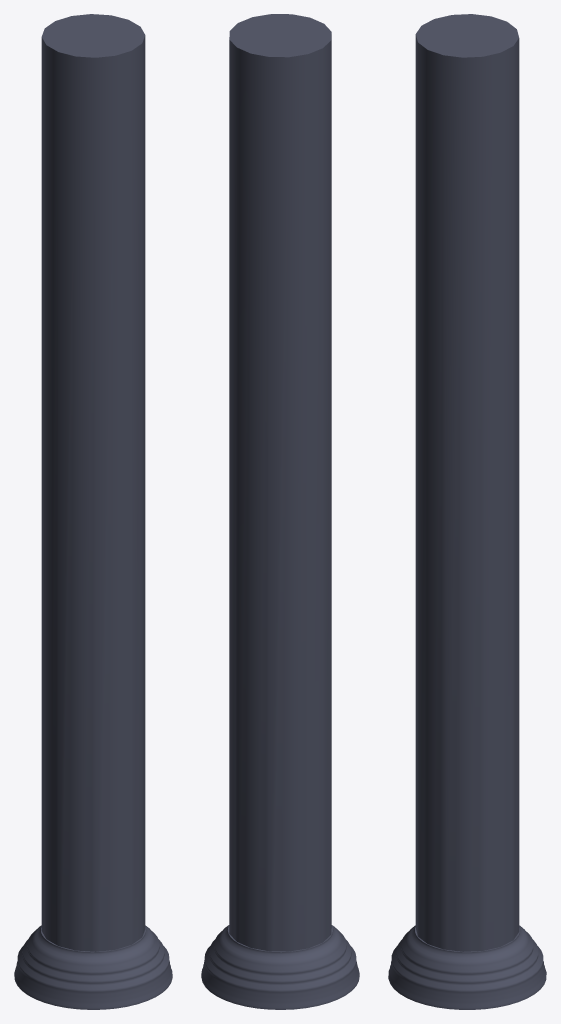
Rendered from column.fbx.
3 views of the same model, side by side, from view 1: azimuth 30°, elevation 25°; view 2: azimuth 150°, elevation 25°; view 3: azimuth 270°, elevation 25° (orthographic).
Parts seen in each view (by area): view 1: Cylinder050; view 2: Cylinder050; view 3: Cylinder050.
Part boxes in pixels (box(x1,y1,x2,y2)): Cylinder050: box(14, 14, 172, 1009); Cylinder050: box(201, 14, 359, 1009); Cylinder050: box(388, 14, 546, 1009).
Size of the model in its own units: 8.18 by 53.7 by 8.18.
